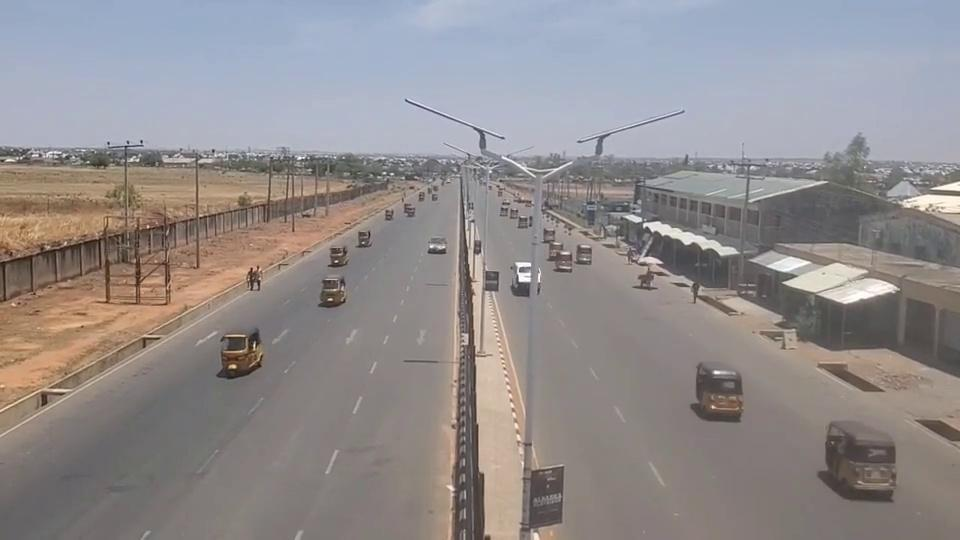bus: (511, 261, 543, 294)
car: (427, 236, 447, 254)
keke: (824, 419, 897, 497), (694, 361, 743, 419), (219, 328, 263, 376), (319, 274, 347, 306), (329, 245, 349, 266), (576, 244, 593, 264), (357, 230, 372, 247)
